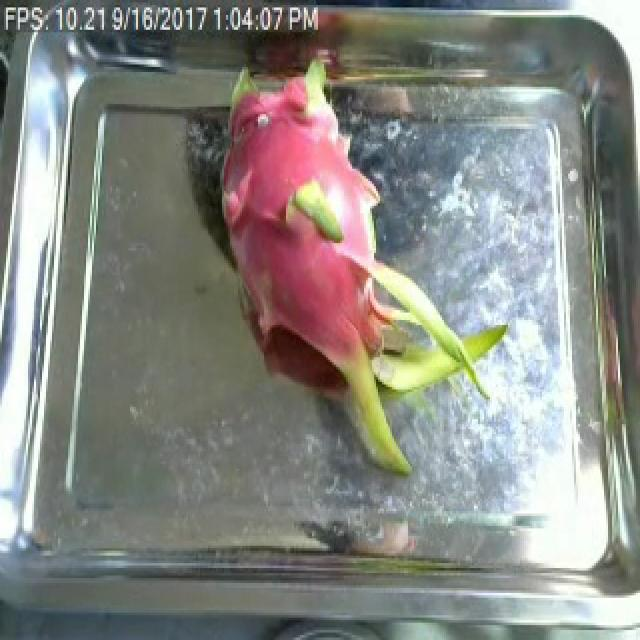fruit: (198, 70, 516, 482)
